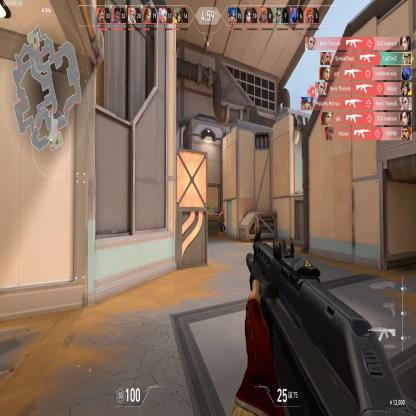enemy: (217, 207, 226, 233)
